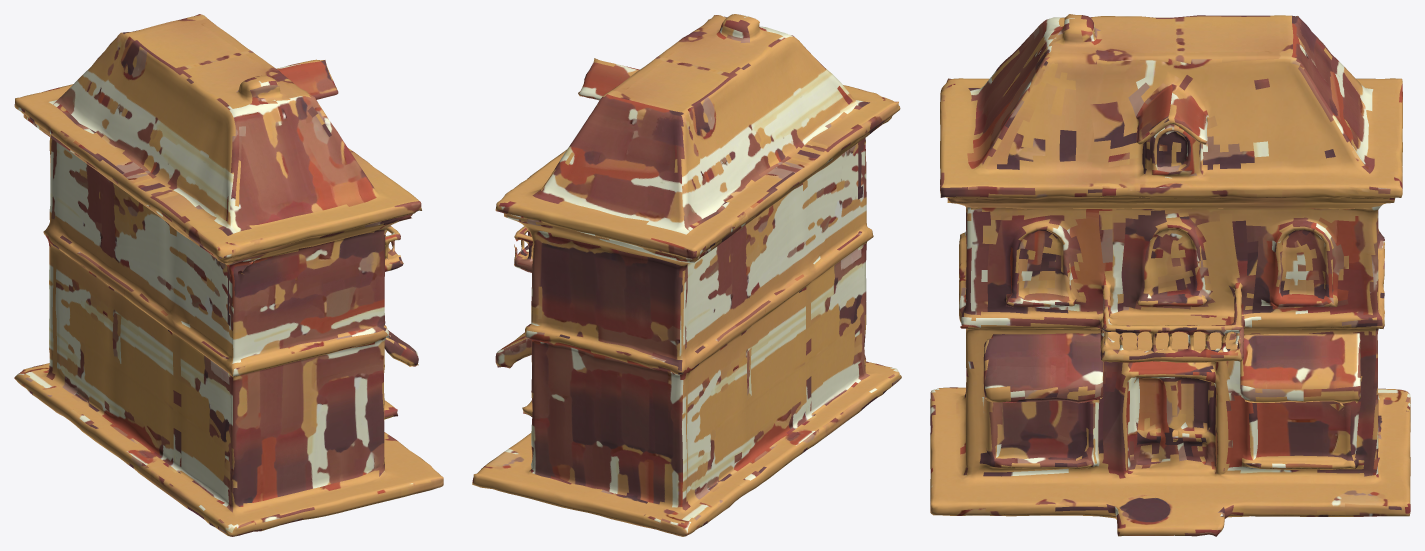
File: B04_DepartmentStore.fbx
3 renders of one model, left to right at view 1: azimuth 30°, elevation 25°; view 2: azimuth 150°, elevation 25°; view 3: azimuth 270°, elevation 25°, orthographic. The views are drawn at different scales.
Parts seen in each view (by area): view 1: tripo_node_f1a21e70; view 2: tripo_node_f1a21e70; view 3: tripo_node_f1a21e70.
Part boxes in pixels (bbox=[...]): tripo_node_f1a21e70: bbox=[14, 14, 443, 536]; tripo_node_f1a21e70: bbox=[472, 14, 901, 536]; tripo_node_f1a21e70: bbox=[930, 14, 1410, 536].
Bounding box in the file's own units: 0.6752 × 0.975 × 0.9807.
